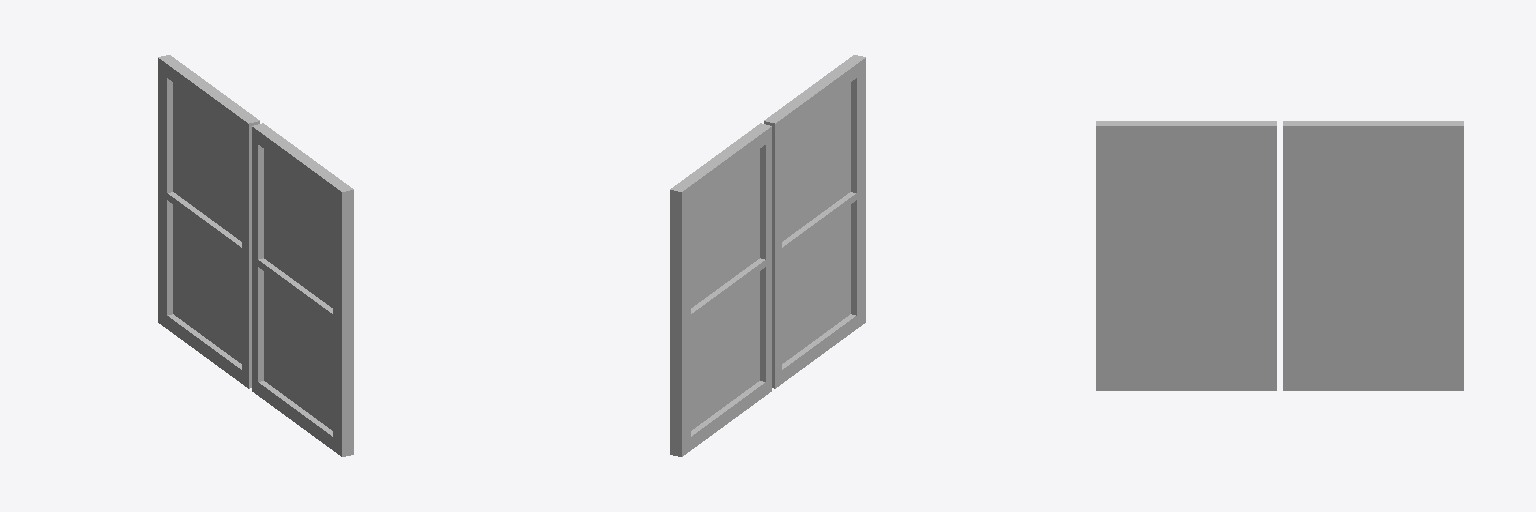
Rendered from Doors.obj.
The picture shows the model from 3 angles: view 1: azimuth 30°, elevation 25°; view 2: azimuth 150°, elevation 25°; view 3: azimuth 270°, elevation 25°; orthographic projection.
Visible parts, largest first — view 1: Cube.002_Cube.005, Cube.001_Cube.002; view 2: Cube.001_Cube.002, Cube.002_Cube.005; view 3: Cube.001_Cube.002, Cube.002_Cube.005.
Boxes of the visible parts, x1,y1,x2,y2 form: Cube.002_Cube.005: [252, 123, 353, 456]; Cube.001_Cube.002: [158, 55, 259, 388]; Cube.001_Cube.002: [670, 123, 771, 456]; Cube.002_Cube.005: [764, 55, 865, 388]; Cube.001_Cube.002: [1283, 121, 1463, 390]; Cube.002_Cube.005: [1096, 121, 1276, 390].
Bounding box in the file's own units: 0.11 × 2.39 × 3.01.